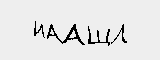І: (12, 11, 24, 33)
Д: (25, 10, 46, 37)
Е: (75, 9, 103, 41)
К: (127, 17, 148, 46)
Н: (106, 15, 129, 42)
Ш: (42, 10, 73, 40)
